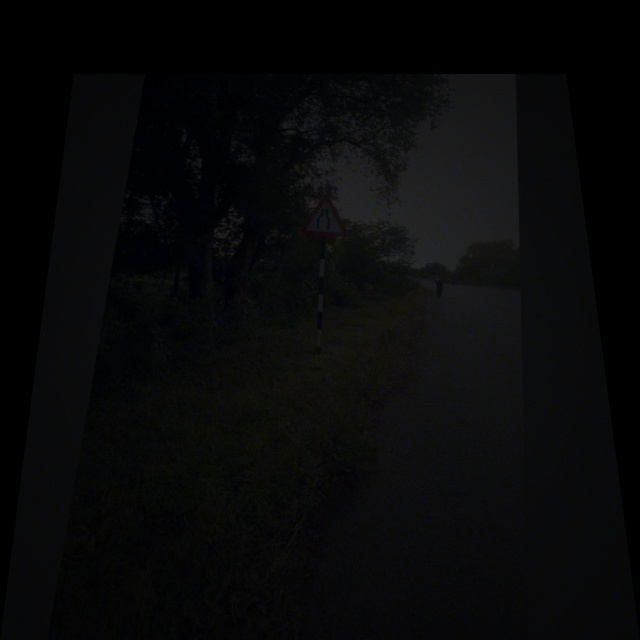Narrow_Road_Ahead: (298, 190, 348, 237)
